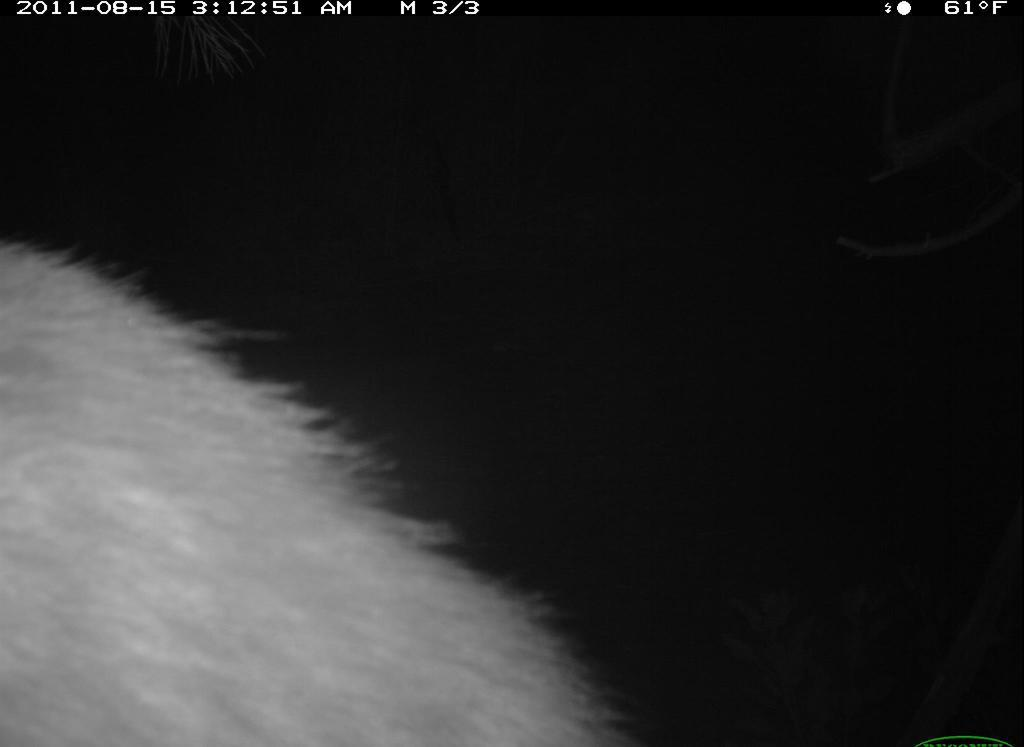raccoon: (7, 227, 660, 747)
